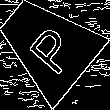P_NW: (16, 14, 77, 75)
